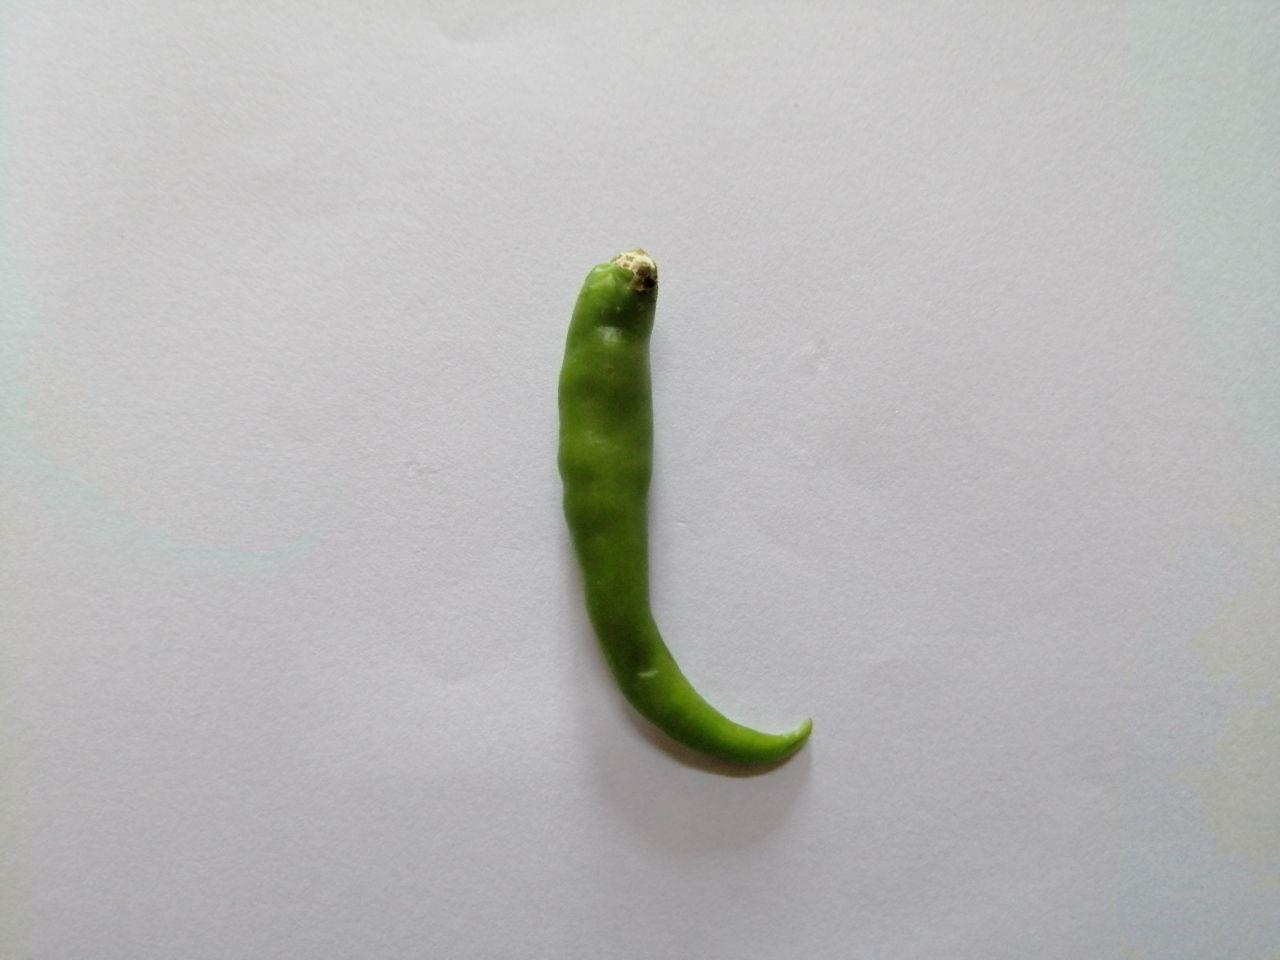lada hijau: (531, 237, 838, 793)
